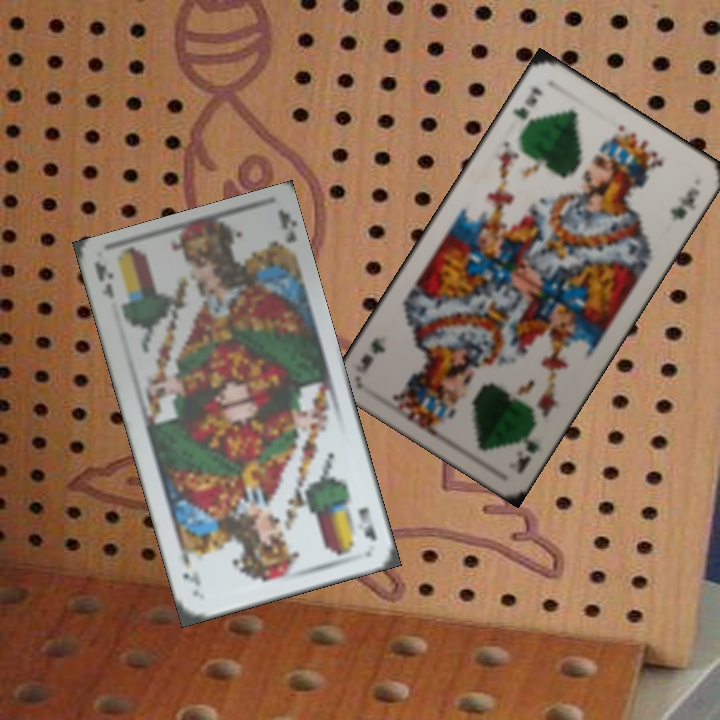EK: (89, 260, 117, 302), (353, 503, 380, 543)
GK: (508, 83, 545, 123), (511, 436, 542, 476)
